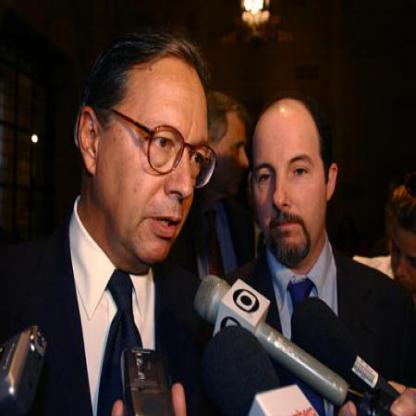face: (99, 44, 215, 266), (250, 99, 328, 267), (207, 97, 254, 200)
